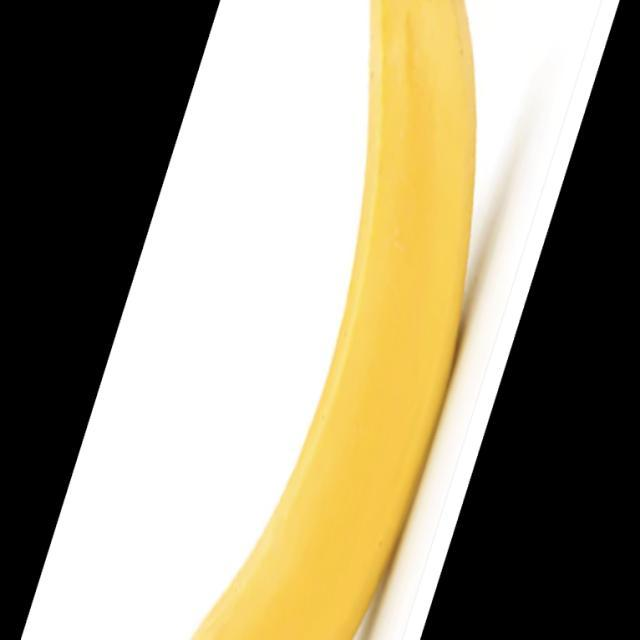Banana: (180, 0, 477, 639)
